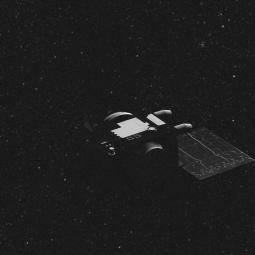proba_3_csc: (84, 91, 255, 189)
